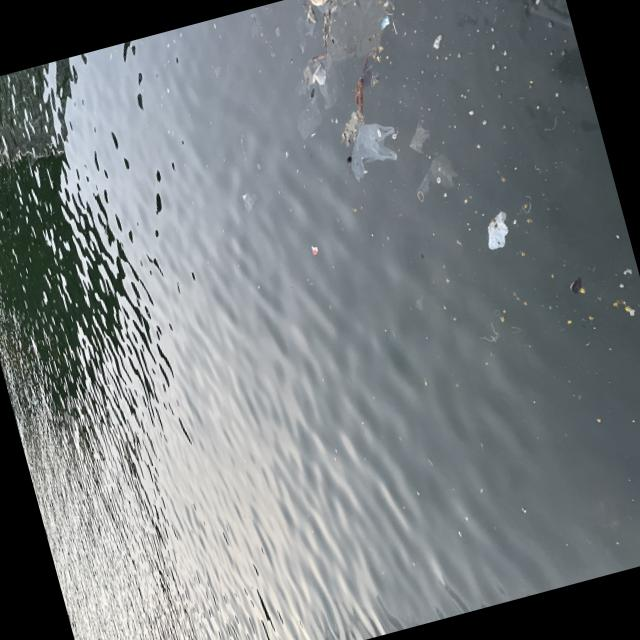plastic bag: (348, 125, 398, 177)
